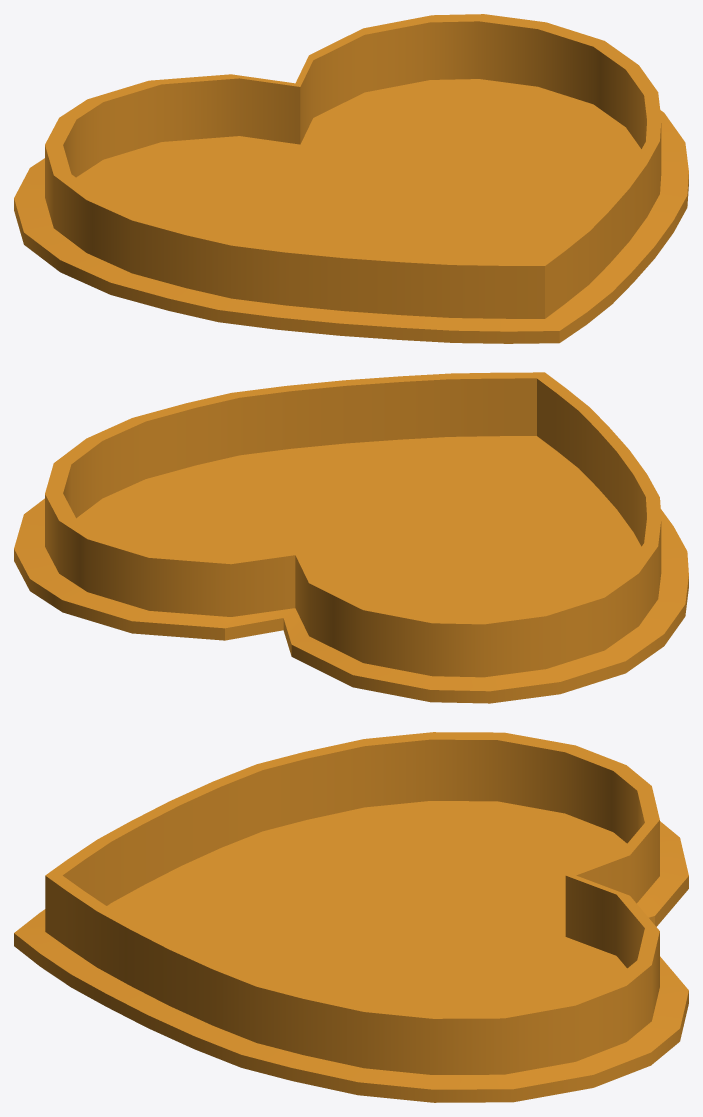
The model's file is Bomboniera_dol.fbx.
The picture shows the model from 3 angles, top to bottom: view 1: azimuth 30°, elevation 25°; view 2: azimuth 150°, elevation 25°; view 3: azimuth 270°, elevation 25°; orthographic projection. The views are drawn at different scales.
Visible parts, largest first — view 1: bomboniera_dol_LOD0; view 2: bomboniera_dol_LOD0; view 3: bomboniera_dol_LOD0.
Part boxes in pixels (x1,y1,x2,y2): bomboniera_dol_LOD0: (14, 14, 688, 343); bomboniera_dol_LOD0: (14, 372, 688, 703); bomboniera_dol_LOD0: (14, 732, 688, 1102).
Size of what is drawn, in the model's own units: 125 by 13.12 by 114.
